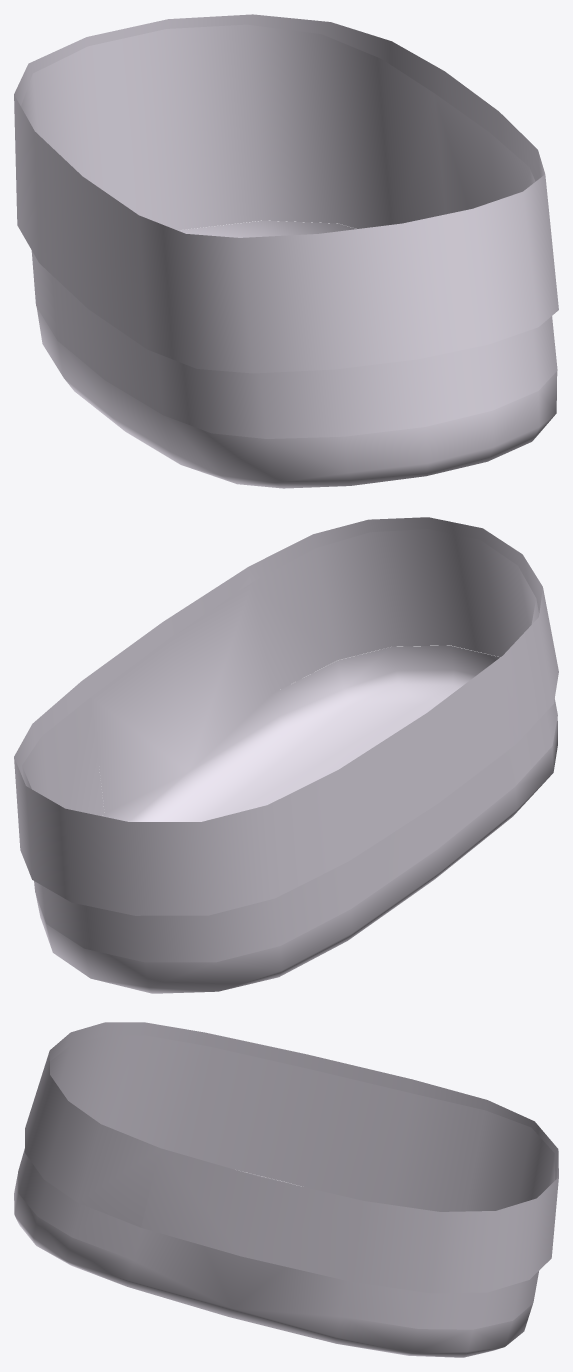
The model's file is btn_share.obj.
The picture shows the model from 3 angles, top to bottom: view 1: azimuth 30°, elevation 25°; view 2: azimuth 150°, elevation 25°; view 3: azimuth 270°, elevation 25°; orthographic projection. The views are drawn at different scales.
Visible parts, largest first — view 1: btn_share; view 2: btn_share; view 3: btn_share.
Boxes of the visible parts, left/top/right/bottom form: btn_share: left=14, top=14, right=558, bottom=488; btn_share: left=14, top=517, right=558, bottom=993; btn_share: left=14, top=1022, right=558, bottom=1357.
Bounding box in the file's own units: 0.055 × 0.0439 × 0.0906.
